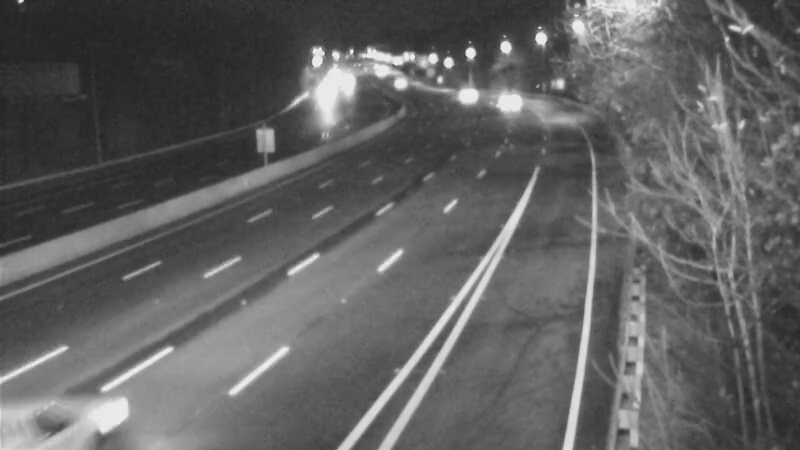vehicle: (375, 58, 425, 108), (443, 70, 493, 120), (478, 76, 528, 126), (302, 71, 352, 121)
